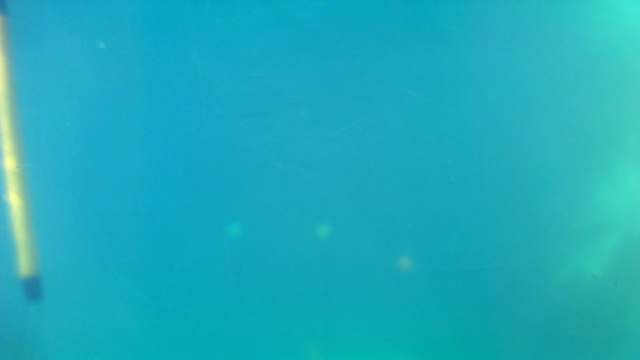buoy_red: (398, 256, 414, 273)
